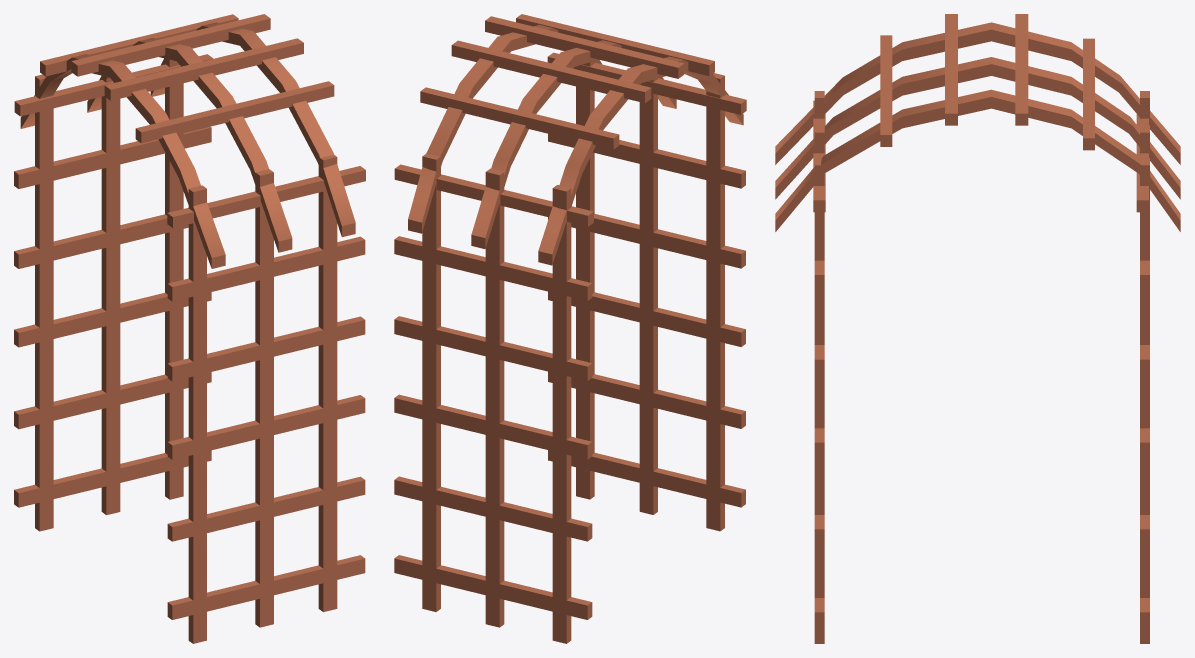
The model's file is Archway.fbx.
The picture shows the model from 3 angles, left to right: view 1: azimuth 30°, elevation 25°; view 2: azimuth 150°, elevation 25°; view 3: azimuth 270°, elevation 25°; orthographic projection. The views are drawn at different scales.
Visible parts, largest first — view 1: polySurface1258; view 2: polySurface1258; view 3: polySurface1258.
Boxes of the visible parts, left/top/right/bottom form: polySurface1258: left=14, top=14, right=365, bottom=643; polySurface1258: left=394, top=14, right=746, bottom=643; polySurface1258: left=775, top=14, right=1180, bottom=643.
Size of the model in its own units: 4.77 by 12.2 by 8.18.
